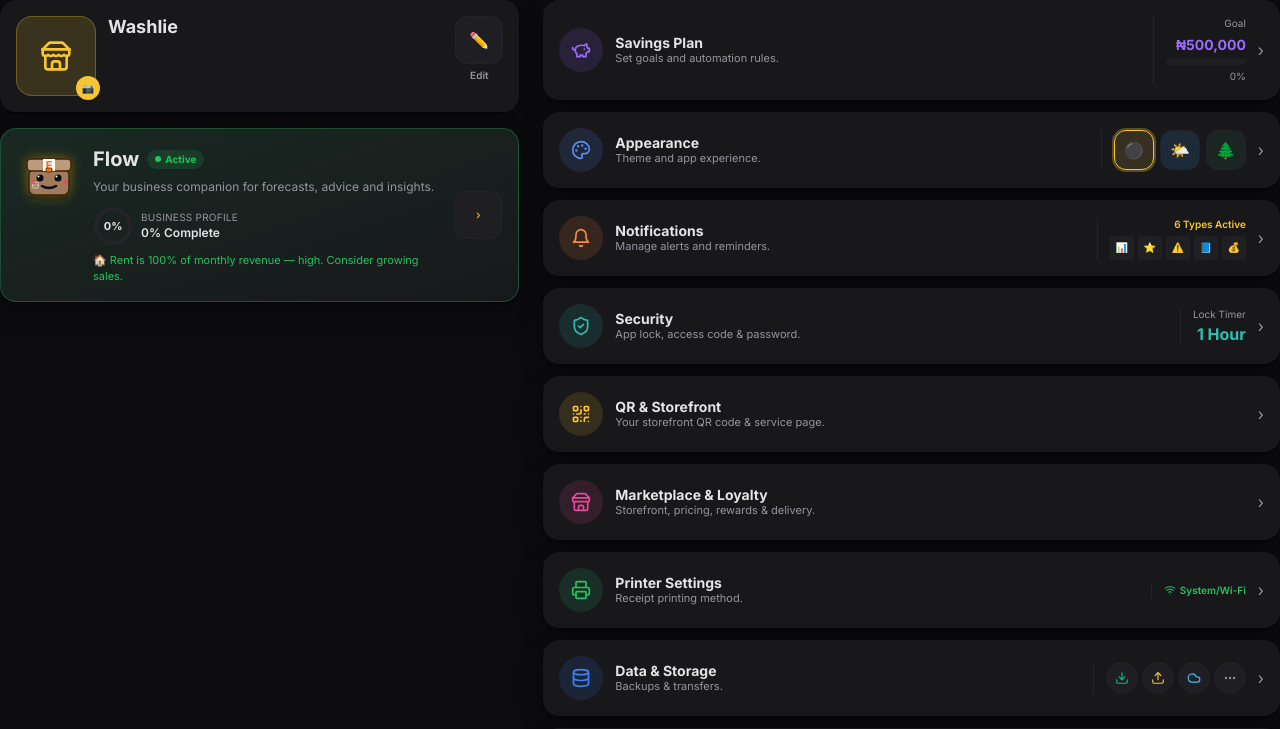
Test case: the rent card › says what the rent comes to a month before anything is changed
What coordinates should you click on to do the following:
click the button "📷 Washlie ✏️ Edit"
I would click on:
 (56, 56)
Its box is [0, 0, 519, 112].
(page scrolled)
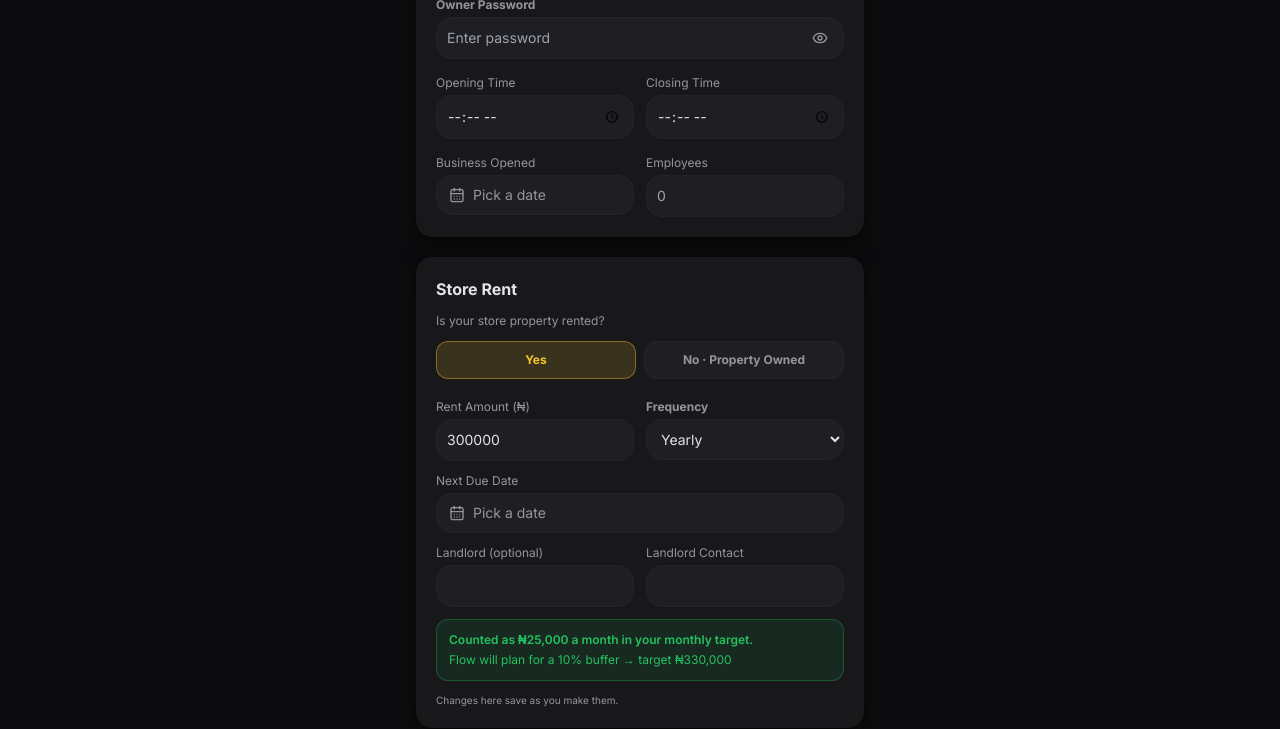
Expected: the text "Counted as ₦25,000 a month in your monthly target." is shown, [449, 632, 753, 647]
